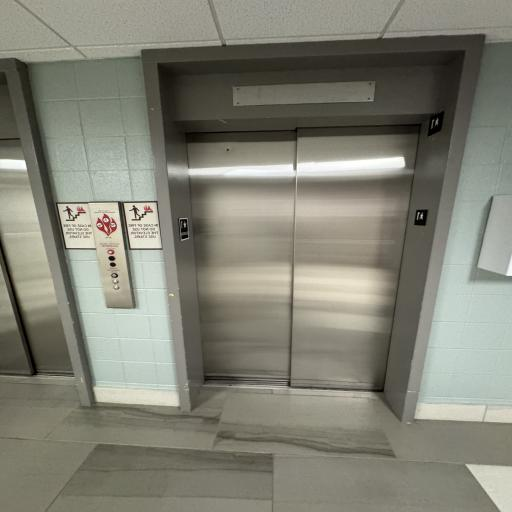elevator buttons: (102, 200, 127, 307)
elevator doors: (152, 45, 426, 417), (0, 64, 55, 396)
